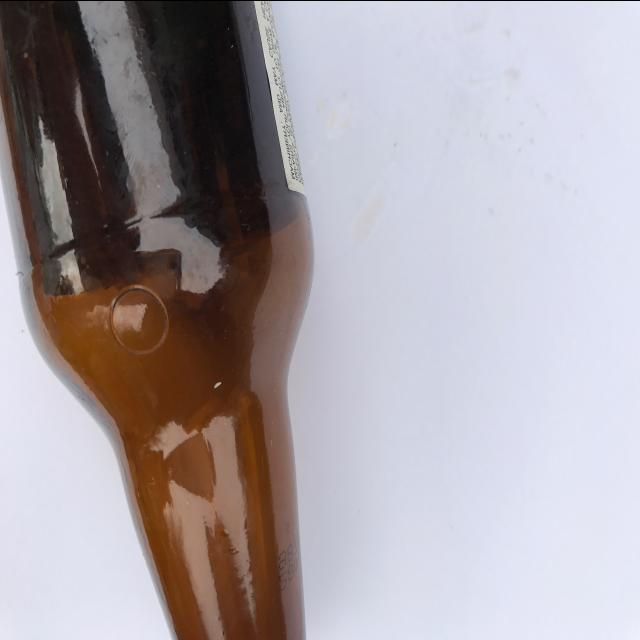glass: (0, 0, 321, 634)
